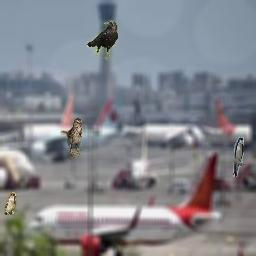Crow: (87, 20, 118, 60)
Sparrow: (60, 118, 82, 158), (4, 192, 17, 215)
Swallow: (233, 137, 244, 177)
